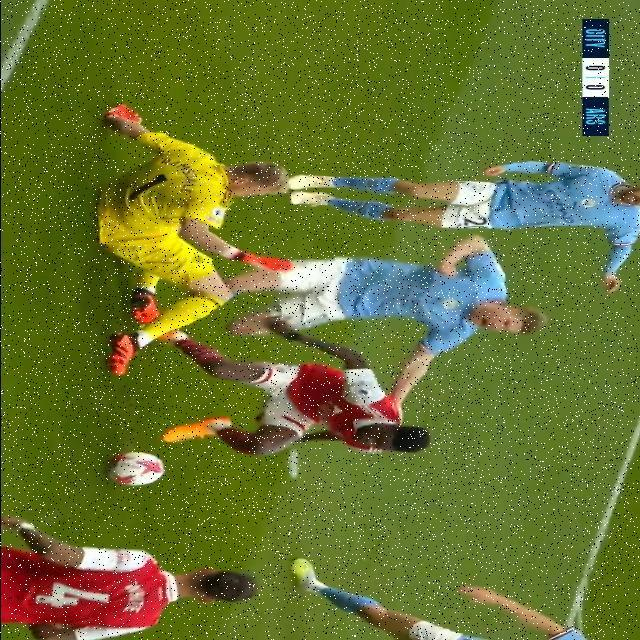ball: (74, 446, 204, 500)
goalkeeper: (50, 106, 277, 364)
player: (228, 233, 560, 394), (278, 154, 640, 286), (147, 337, 449, 467), (0, 525, 286, 640), (289, 570, 595, 640)
